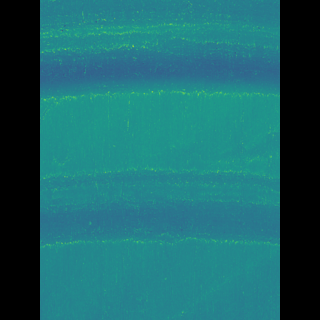Loch: (68, 0, 249, 103), (70, 166, 249, 250)
